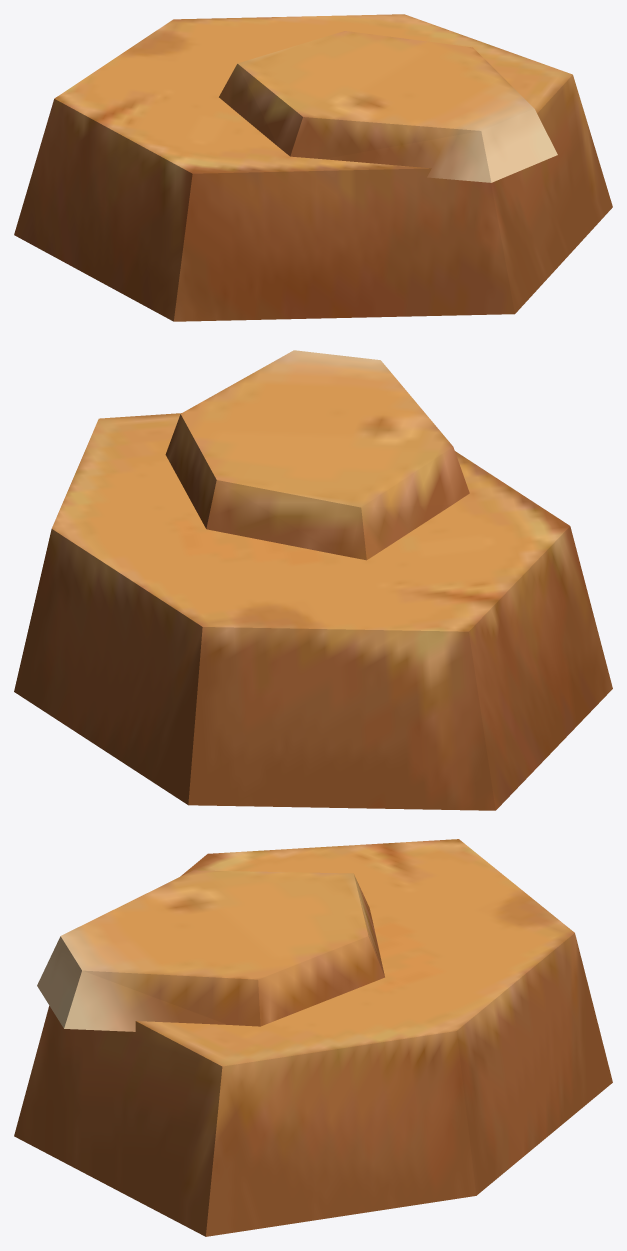
The model's file is shatan_shishan06.fbx.
3 renders of one model, top to bottom at view 1: azimuth 30°, elevation 25°; view 2: azimuth 150°, elevation 25°; view 3: azimuth 270°, elevation 25°, orthographic. The views are drawn at different scales.
Visible parts, largest first — view 1: shatan_shishan06; view 2: shatan_shishan06; view 3: shatan_shishan06.
Boxes of the visible parts, x1,y1,x2,y2 form: shatan_shishan06: (14, 14, 612, 321); shatan_shishan06: (14, 350, 612, 810); shatan_shishan06: (14, 839, 612, 1236).
Bounding box in the file's own units: 2.07 × 0.7095 × 2.
